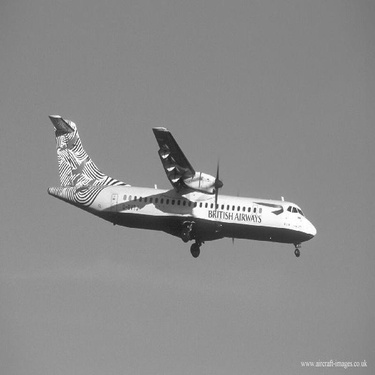airplane: (39, 108, 329, 262)
